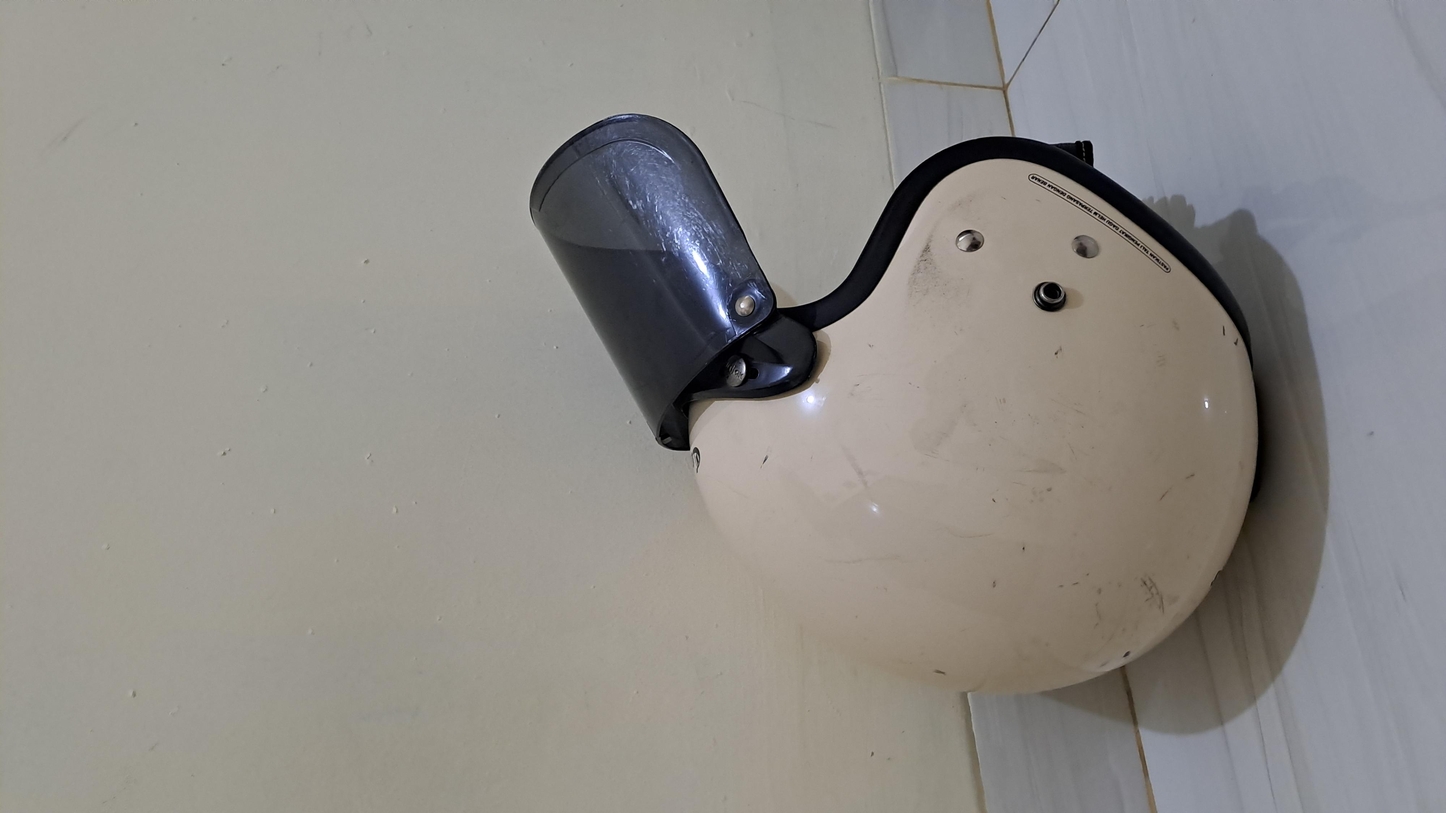helmet: (144, 297, 1258, 716)
